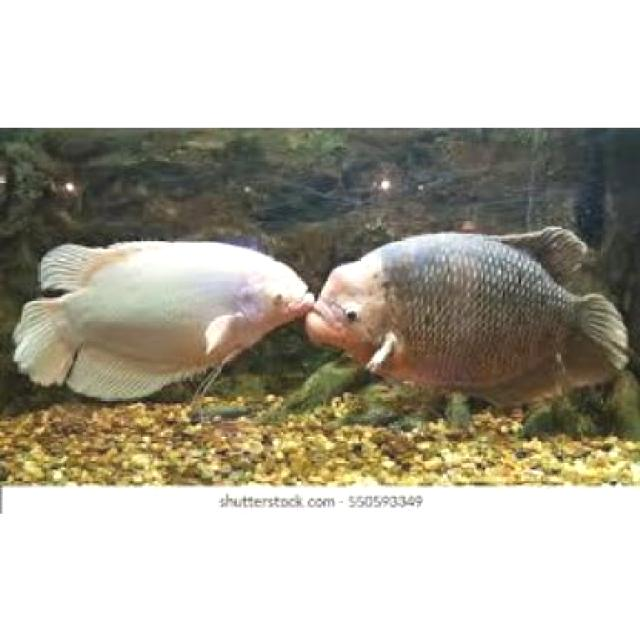gurame: (306, 232, 636, 405), (15, 236, 312, 398)
